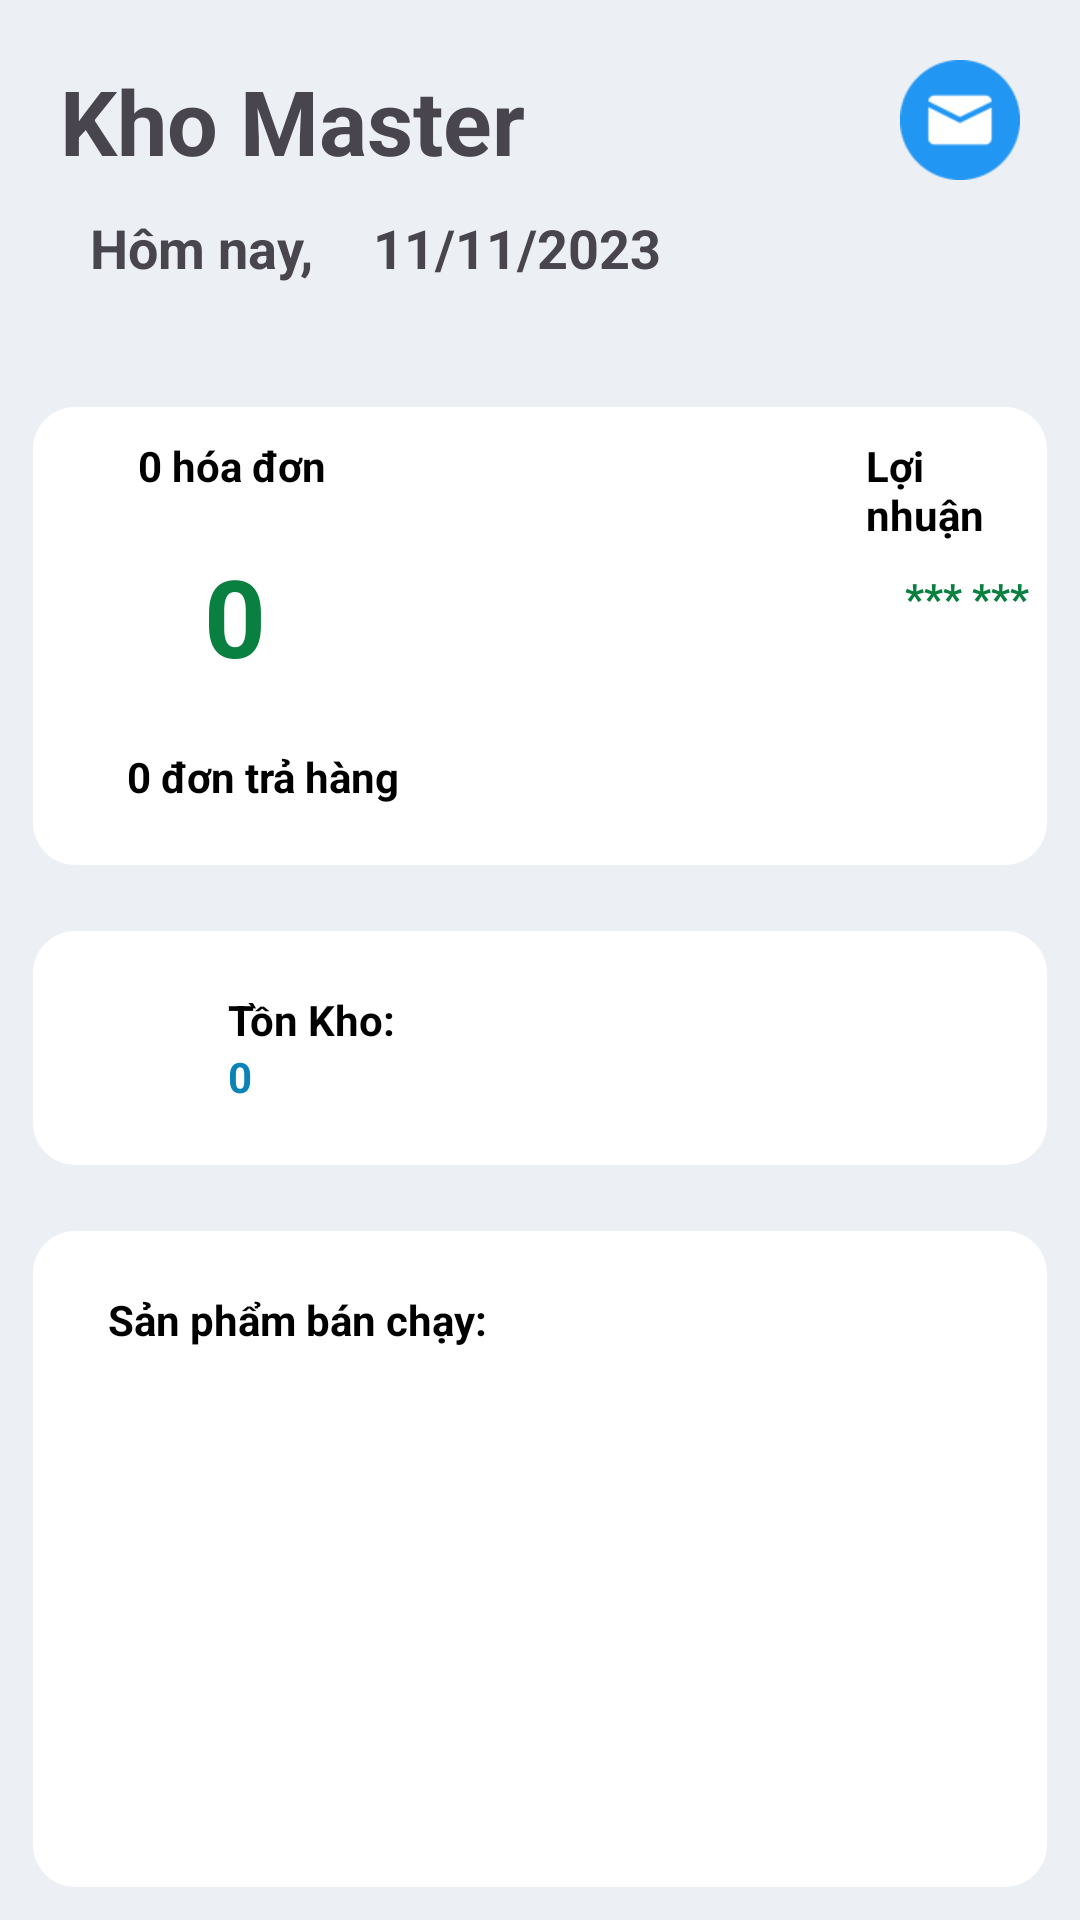

Screen size 1080w x 1920h. Icon name, then its box in pixels as (x1, y1, x2, y2):
mail: (900, 60, 1020, 180)
